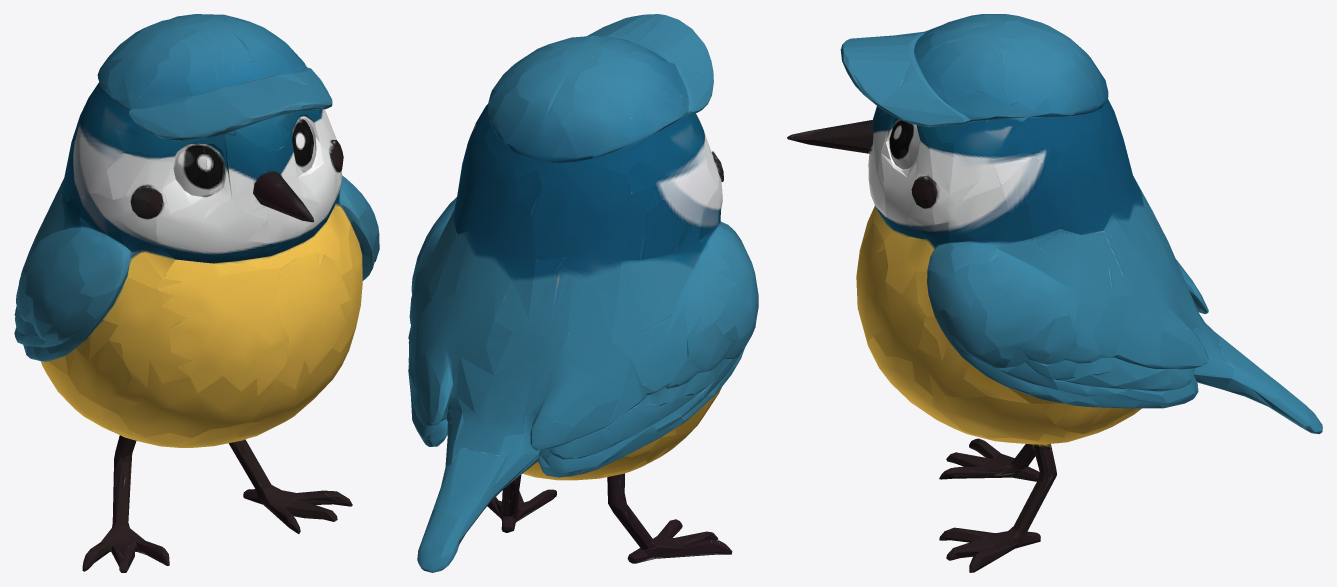
Rendered from blue-tit.glb.
3 views of the same model, side by side, from view 1: azimuth 30°, elevation 25°; view 2: azimuth 150°, elevation 25°; view 3: azimuth 270°, elevation 25° (orthographic). The views are drawn at different scales.
Bounding box in the file's own units: 1.29 × 1.9 × 1.9.
Materials: 1 (1 with a texture image).
